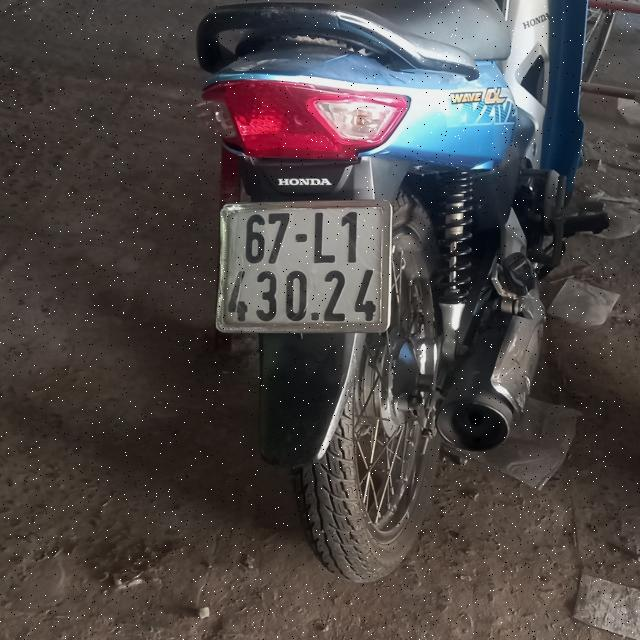0: (286, 270, 306, 322)
2: (323, 269, 346, 321)
3: (256, 271, 278, 321)
4: (227, 270, 249, 323), (354, 269, 376, 321)
6: (245, 214, 265, 264)
7: (266, 212, 290, 264)
L: (313, 212, 336, 262), (342, 211, 358, 264)
